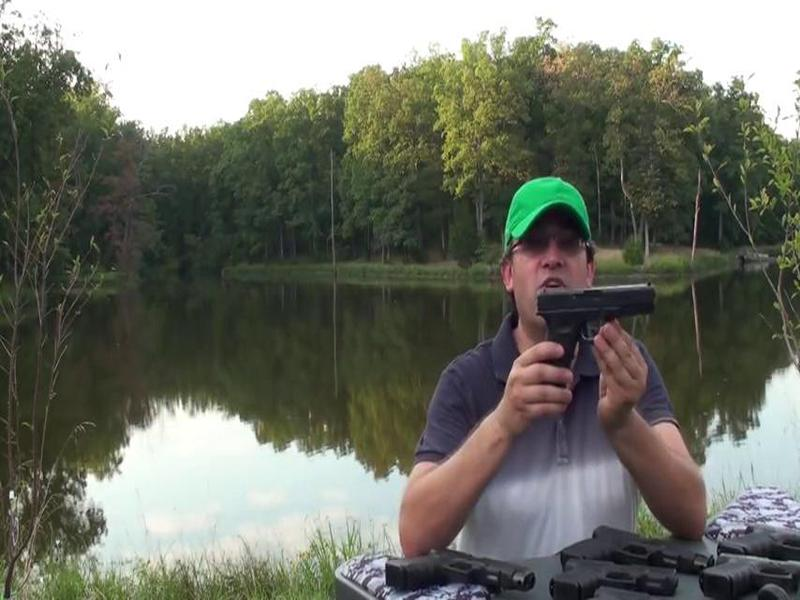Pistola: (529, 260, 678, 407)
